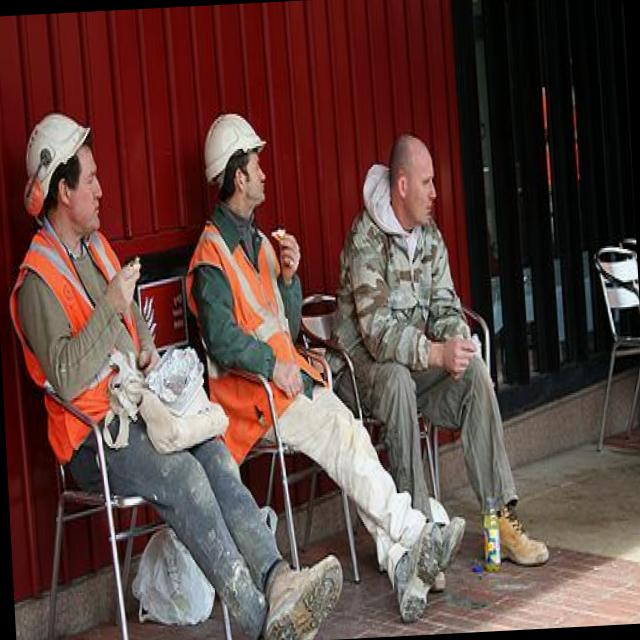helmet: (20, 109, 100, 208), (192, 116, 270, 186)
no-helmet: (378, 126, 448, 204)
no-vest: (341, 206, 462, 416)
vest: (7, 226, 144, 460), (180, 217, 306, 462)
